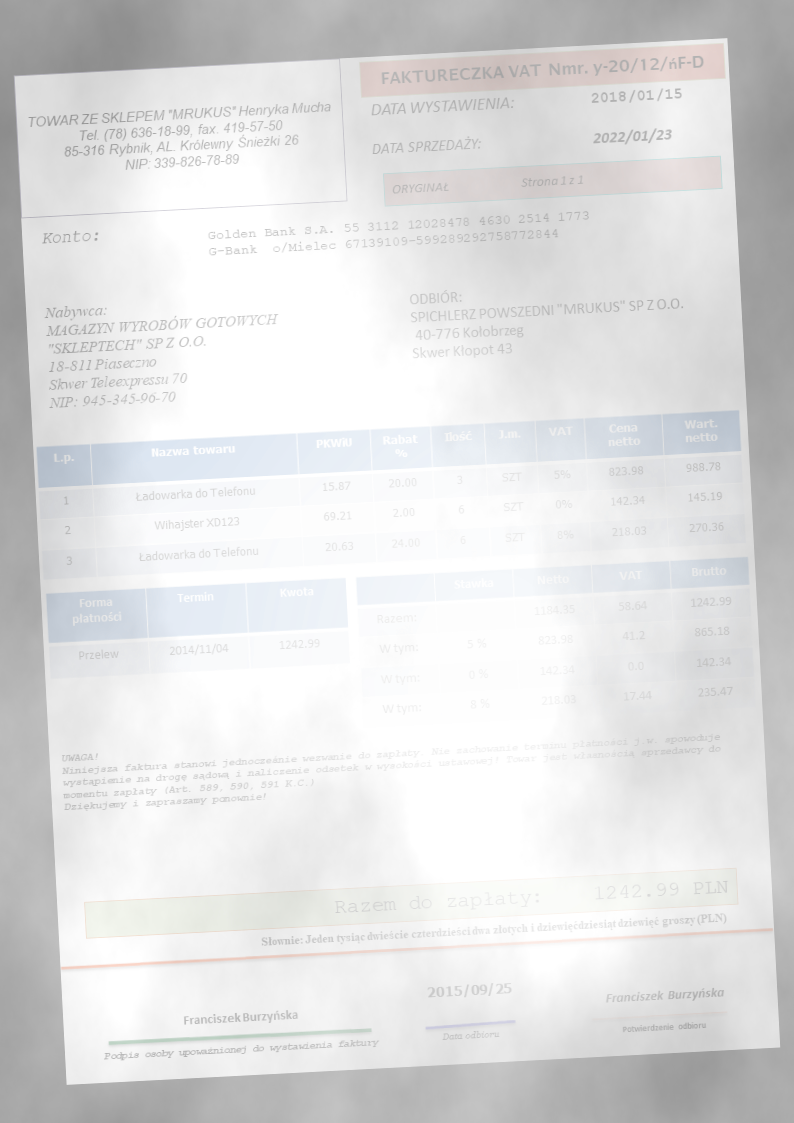Table: (35, 409, 747, 581), (354, 555, 758, 729), (44, 575, 350, 681)
TextBox: (58, 717, 725, 814), (42, 293, 284, 411), (25, 96, 336, 178), (407, 275, 686, 362), (206, 208, 593, 260), (260, 910, 728, 949), (332, 875, 729, 919), (377, 50, 705, 89), (102, 1035, 380, 1064), (389, 171, 586, 198), (368, 92, 517, 118), (603, 985, 726, 1007), (369, 134, 484, 157), (180, 1007, 299, 1028), (589, 86, 683, 108), (425, 979, 513, 1000), (590, 126, 676, 146), (619, 1019, 708, 1035), (39, 226, 100, 247), (440, 1027, 501, 1044)
